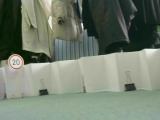speed_20: (8, 54, 23, 69)
